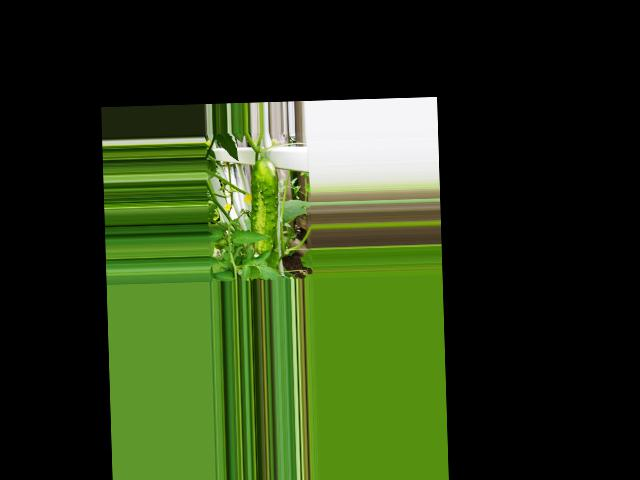cucumber: (250, 157, 280, 254)
